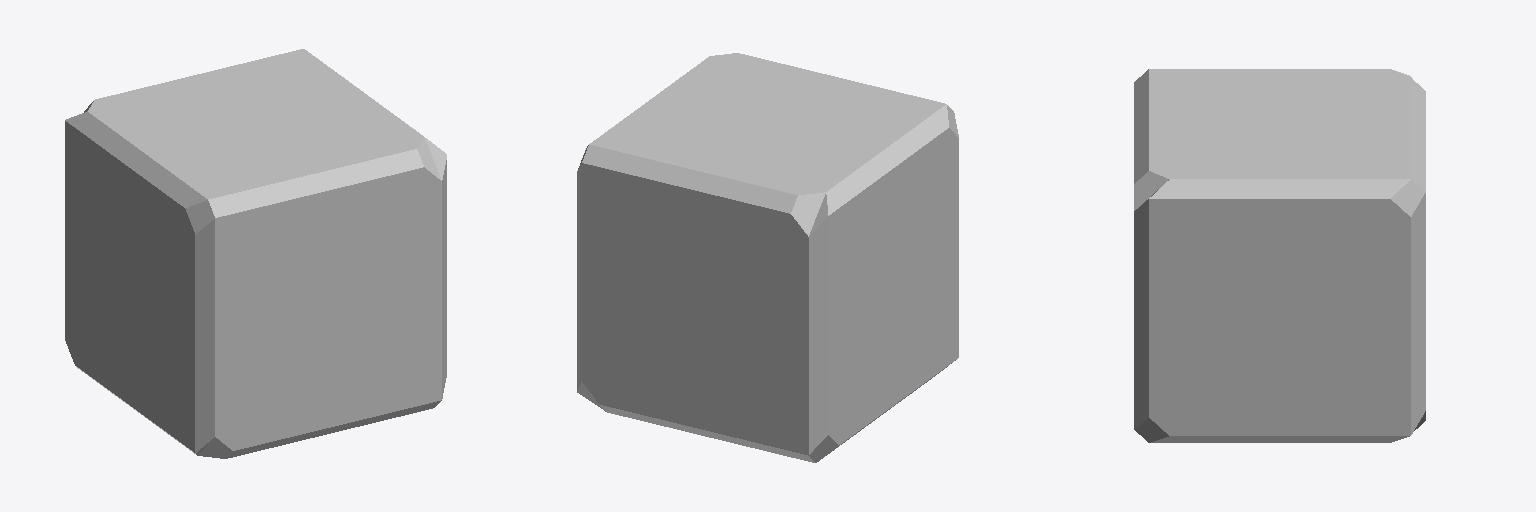
3 views of the same model, side by side, from view 1: azimuth 30°, elevation 25°; view 2: azimuth 150°, elevation 25°; view 3: azimuth 270°, elevation 25° (orthographic).
Visible parts, largest first — view 1: mmGroup0; view 2: mmGroup0; view 3: mmGroup0.
Part boxes in pixels (left/top/right/bottom): mmGroup0: left=65, top=49, right=446, bottom=458; mmGroup0: left=577, top=53, right=958, bottom=462; mmGroup0: left=1134, top=69, right=1425, bottom=442.
Size of the model in its own units: 2 by 2 by 2.